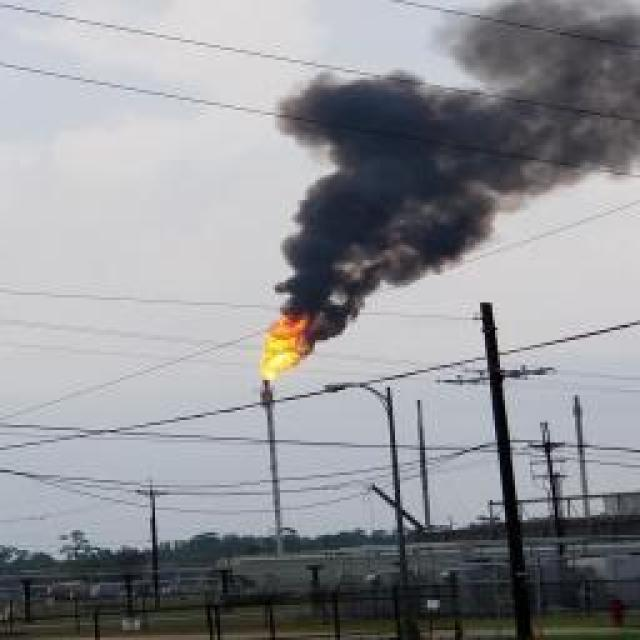fire: (273, 1, 640, 356), (266, 314, 305, 376)
